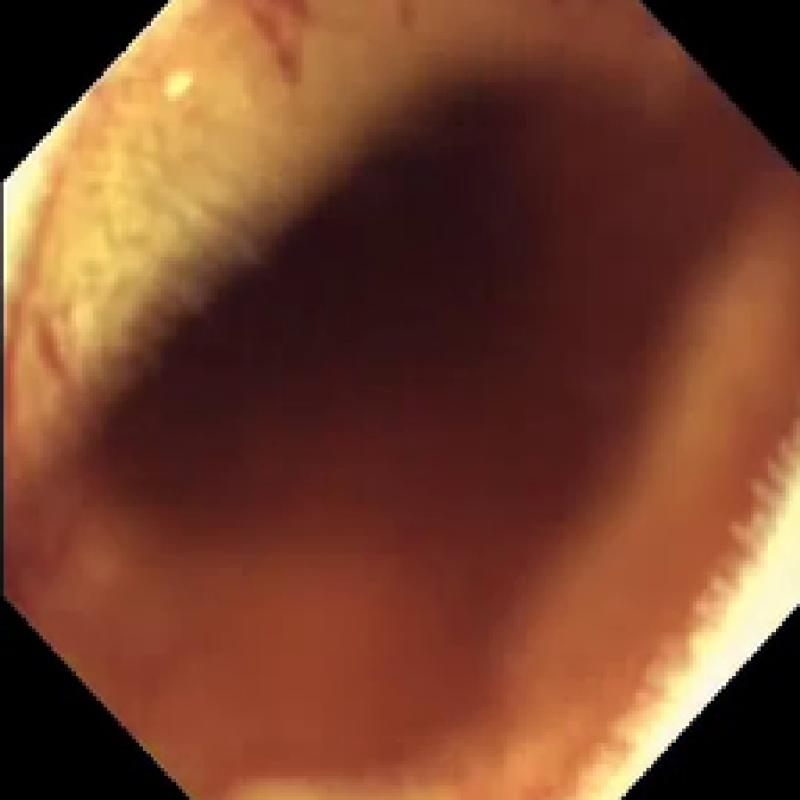bleeding: (36, 85, 768, 800), (233, 0, 318, 83)
